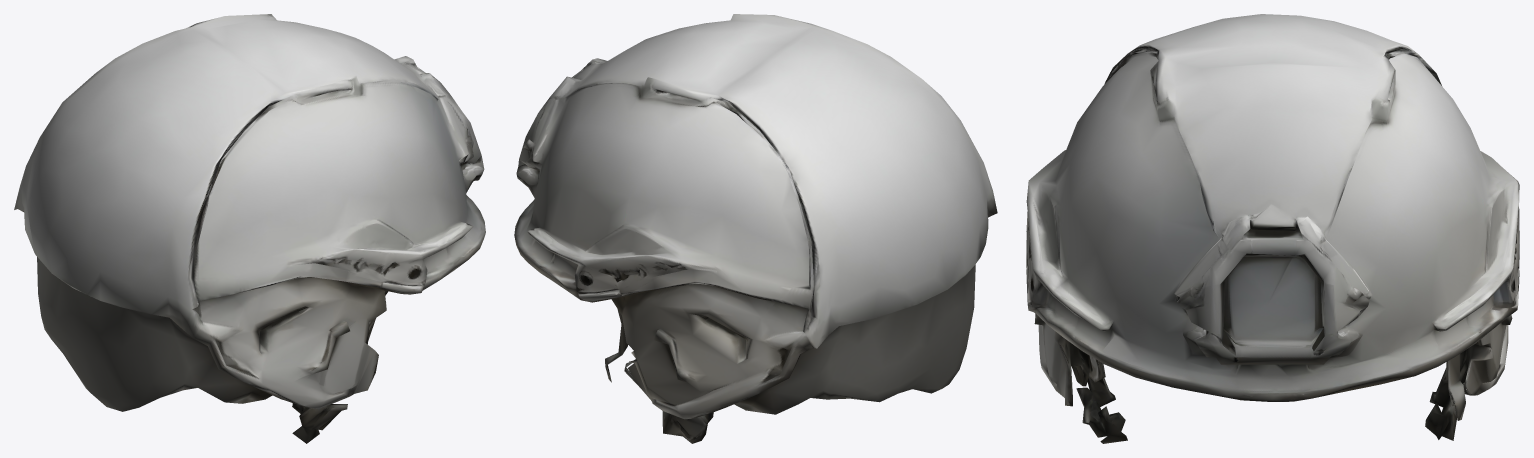
File: helmet_f.glb
3 views of the same model, side by side, from view 1: azimuth 30°, elevation 25°; view 2: azimuth 150°, elevation 25°; view 3: azimuth 270°, elevation 25° (orthographic). The views are drawn at different scales.
Visible parts, largest first — view 1: tripo_node_ef7cc071-04c2-4d7e-9bd8-d5040778eeb6; view 2: tripo_node_ef7cc071-04c2-4d7e-9bd8-d5040778eeb6; view 3: tripo_node_ef7cc071-04c2-4d7e-9bd8-d5040778eeb6.
Part boxes in pixels (left/top/right/bottom): tripo_node_ef7cc071-04c2-4d7e-9bd8-d5040778eeb6: left=14, top=14, right=485, bottom=443; tripo_node_ef7cc071-04c2-4d7e-9bd8-d5040778eeb6: left=514, top=14, right=997, bottom=443; tripo_node_ef7cc071-04c2-4d7e-9bd8-d5040778eeb6: left=1026, top=14, right=1519, bottom=443.
Bounding box in the file's own units: 0.9781 × 0.804 × 0.8855.
1 material, 1 textured.
